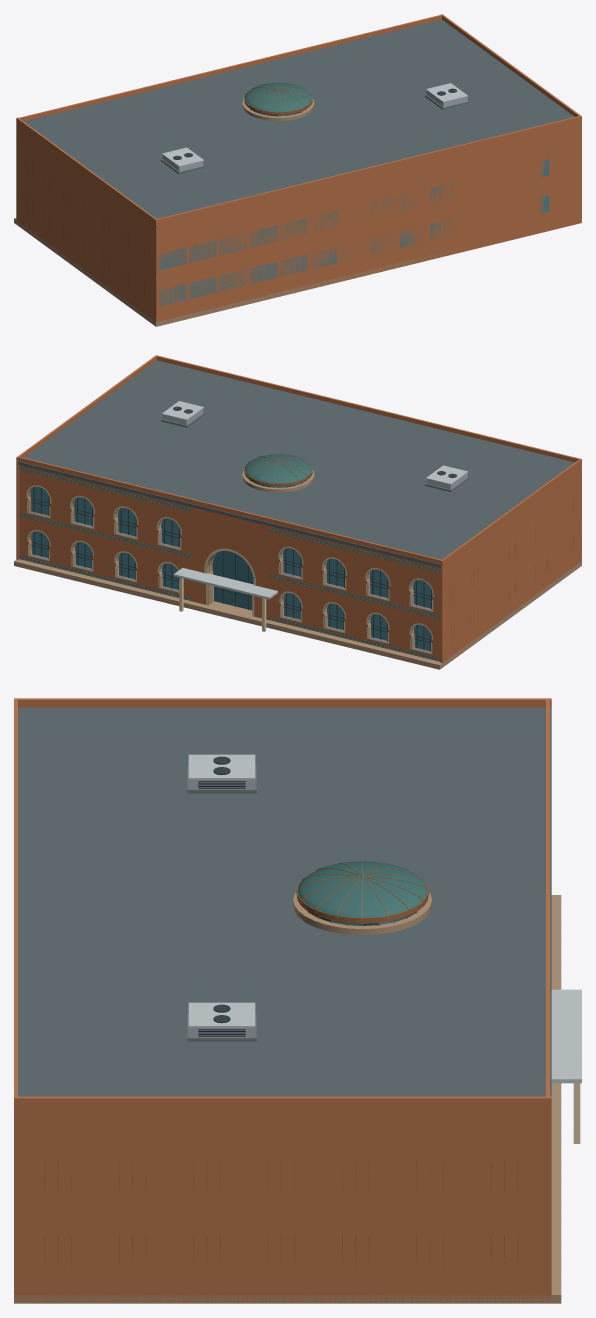
Rendered from AGA_admin.glb.
The picture shows the model from 3 angles, top to bottom: view 1: azimuth 30°, elevation 25°; view 2: azimuth 150°, elevation 25°; view 3: azimuth 270°, elevation 25°; orthographic projection. The views are drawn at different scales.
Visible parts, largest first — view 1: AGA_admin; view 2: AGA_admin; view 3: AGA_admin.
Boxes of the visible parts, x1=… form: AGA_admin: x1=14, y1=14, x2=581, y2=326; AGA_admin: x1=14, y1=355, x2=581, y2=669; AGA_admin: x1=14, y1=698, x2=581, y2=1303.
Bounding box in the file's own units: 60 × 16 × 36.
15 materials, 15 textured.
